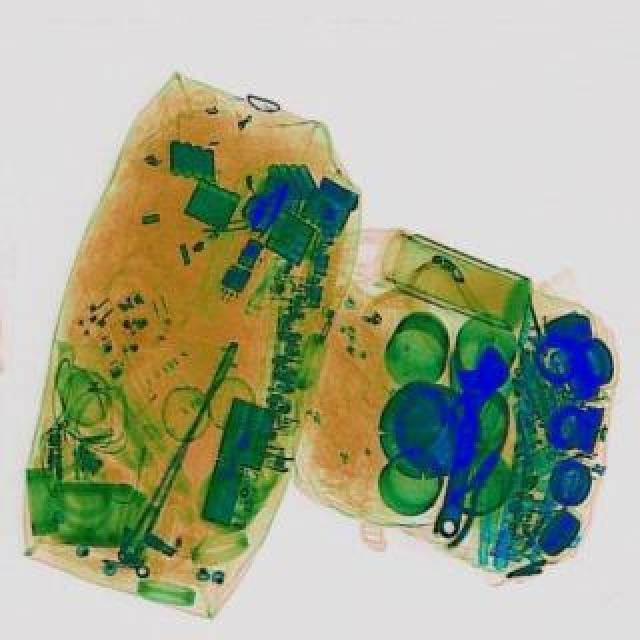scissors: (426, 338, 518, 538)
wrench: (426, 442, 518, 552)
